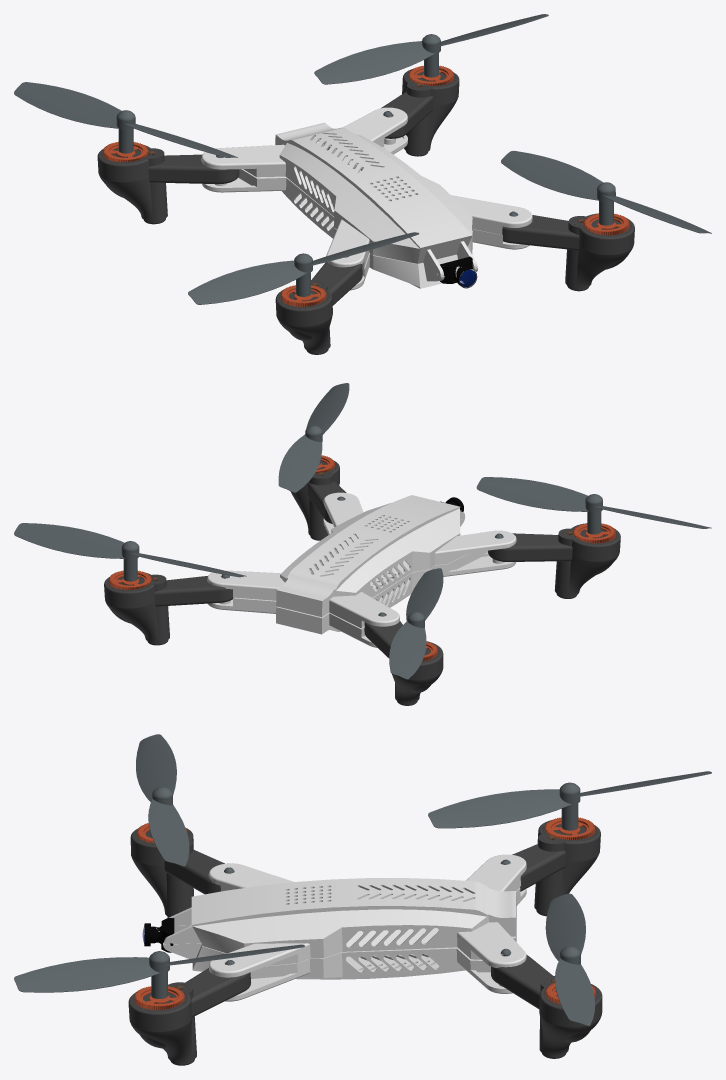
The model's file is Drone2.glb.
3 renders of one model, top to bottom at view 1: azimuth 30°, elevation 25°; view 2: azimuth 150°, elevation 25°; view 3: azimuth 270°, elevation 25°, orthographic. The views are drawn at different scales.
Visible parts, largest first — view 1: Solid1.005, Solid1.006, Solid1.022, Solid1.007, Solid1.018, Solid1.021, Solid1.008, Solid1.010, Solid1.009, Solid1.020, Solid1.001, Solid1.002 (+3 smaller); view 2: Solid1.005, Solid1.006, Solid1.020, Solid1.009, Solid1.021, Solid1.008, Solid1.010, Solid1.018, Solid1.022, Solid1.007, Solid1.002, Solid1.026; view 3: Solid1.005, Solid1.006, Solid1.018, Solid1.010, Solid1.007, Solid1.008, Solid1.021, Solid1.022, Solid1.020, Solid1.009, Solid1.012, Solid1.016 (+1 smaller).
Part boxes in pixels (x1,y1,x2,y2): Solid1.005: [201, 107, 532, 276]; Solid1.006: [202, 135, 529, 290]; Solid1.022: [97, 145, 239, 224]; Solid1.007: [502, 213, 634, 291]; Solid1.018: [14, 82, 237, 157]; Solid1.021: [314, 14, 548, 84]; Solid1.008: [188, 232, 419, 304]; Solid1.010: [501, 150, 711, 233]; Solid1.009: [275, 262, 362, 354]; Solid1.020: [381, 68, 459, 156]; Solid1.001: [437, 256, 477, 288]; Solid1.002: [281, 285, 326, 307]; Solid1.005: [207, 492, 516, 628]; Solid1.006: [208, 516, 516, 647]; Solid1.020: [104, 572, 233, 645]; Solid1.009: [488, 523, 620, 598]; Solid1.021: [14, 523, 246, 581]; Solid1.008: [476, 477, 711, 534]; Solid1.010: [278, 383, 349, 492]; Solid1.018: [389, 568, 443, 679]; Solid1.022: [364, 621, 443, 705]; Solid1.007: [290, 461, 346, 540]; Solid1.002: [573, 523, 615, 543]; Solid1.026: [109, 570, 151, 589]; Solid1.005: [163, 854, 526, 977]; Solid1.006: [163, 887, 526, 1001]; Solid1.018: [428, 771, 711, 830]; Solid1.010: [14, 944, 304, 998]; Solid1.007: [128, 968, 251, 1065]; Solid1.008: [136, 734, 189, 866]; Solid1.021: [545, 893, 595, 1026]; Solid1.022: [512, 820, 600, 916]; Solid1.020: [491, 955, 602, 1058]; Solid1.009: [130, 828, 224, 917]; Solid1.012: [134, 986, 184, 1010]; Solid1.016: [544, 817, 594, 839].
Size of the model in its own units: 0.3347 by 0.0684 by 0.3336.
